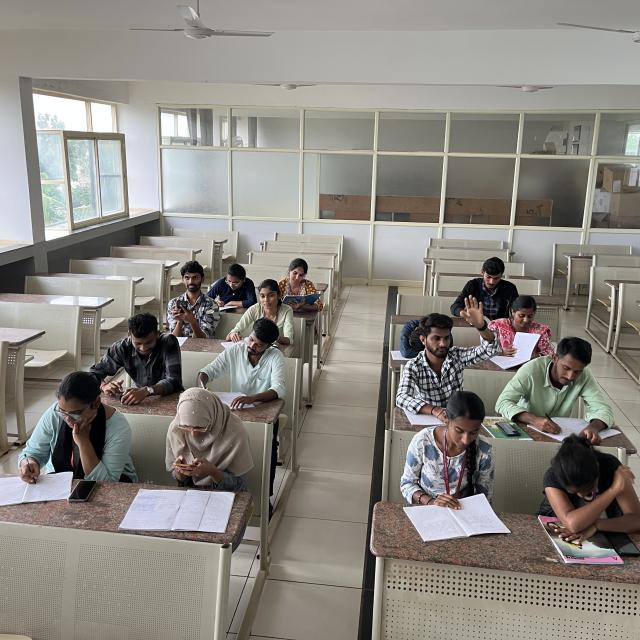Hand Rising: (408, 291, 493, 395)
Reading: (419, 390, 496, 536), (274, 238, 326, 309), (492, 296, 544, 362)
Sleeping: (536, 436, 640, 542), (395, 306, 455, 361)
Using Phone: (117, 384, 261, 497), (91, 318, 187, 410), (155, 255, 223, 350)
Writing: (10, 374, 143, 484), (522, 339, 630, 438), (189, 315, 298, 405), (202, 250, 261, 316)
